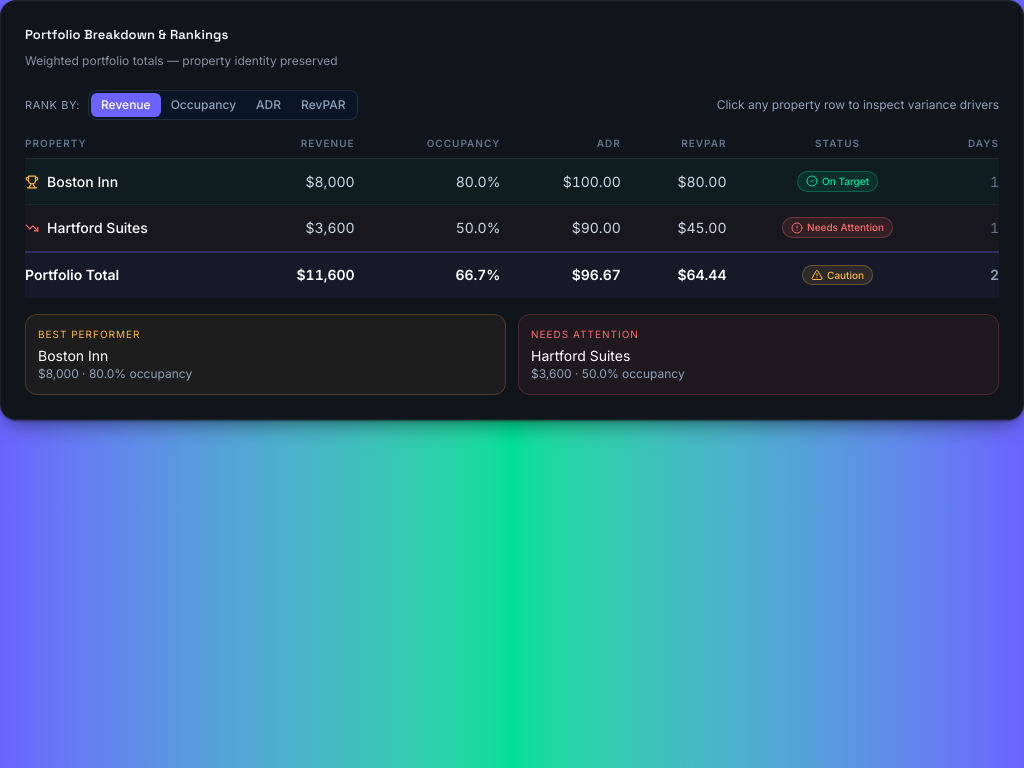
Test: PropertyRanking & Variance Decomposition UI › displays interactive variance decomposition diagnosis when clicking a property
# Click Hartford Suites table row to inspect variance
Click the text "Hartford Suites" in the row of "$90.00": {"x": 97, "y": 228} [47,218,148,238]
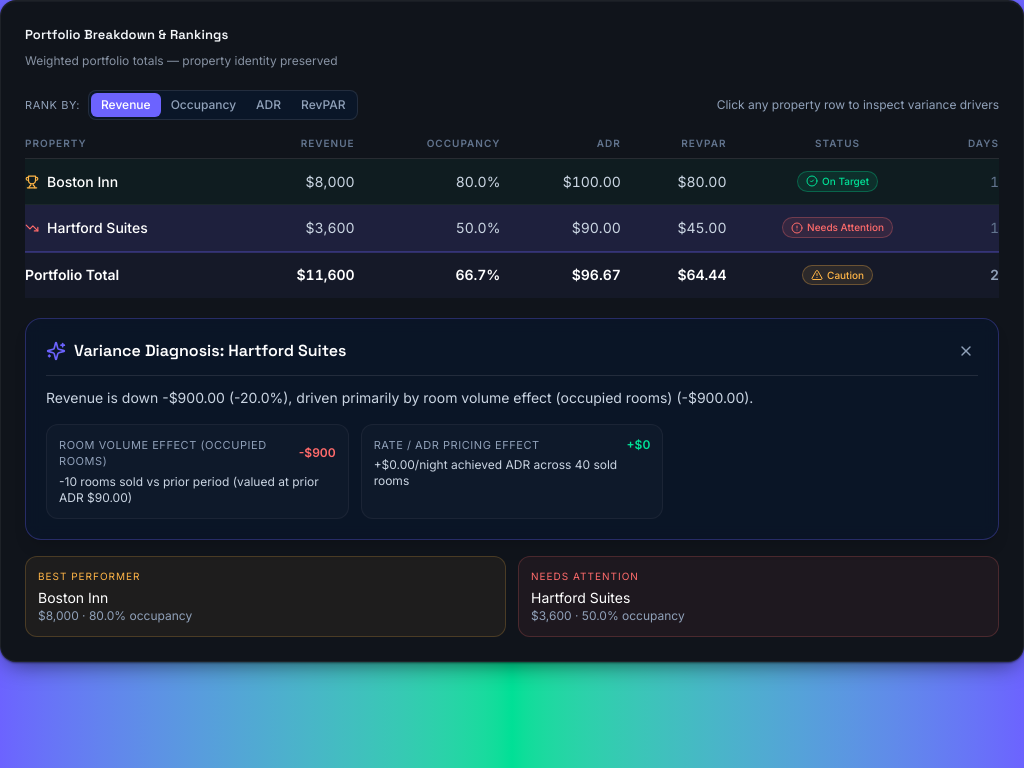
Now the heading "Variance Diagnosis: Hartford Suites" is shown, box [74,339,346,363]
Now the text "Room Volume Effect (Occupied Rooms)" is shown, box [59,437,299,470]
Now the text "Rate / ADR Pricing Effect" is shown, box [374,437,540,453]
